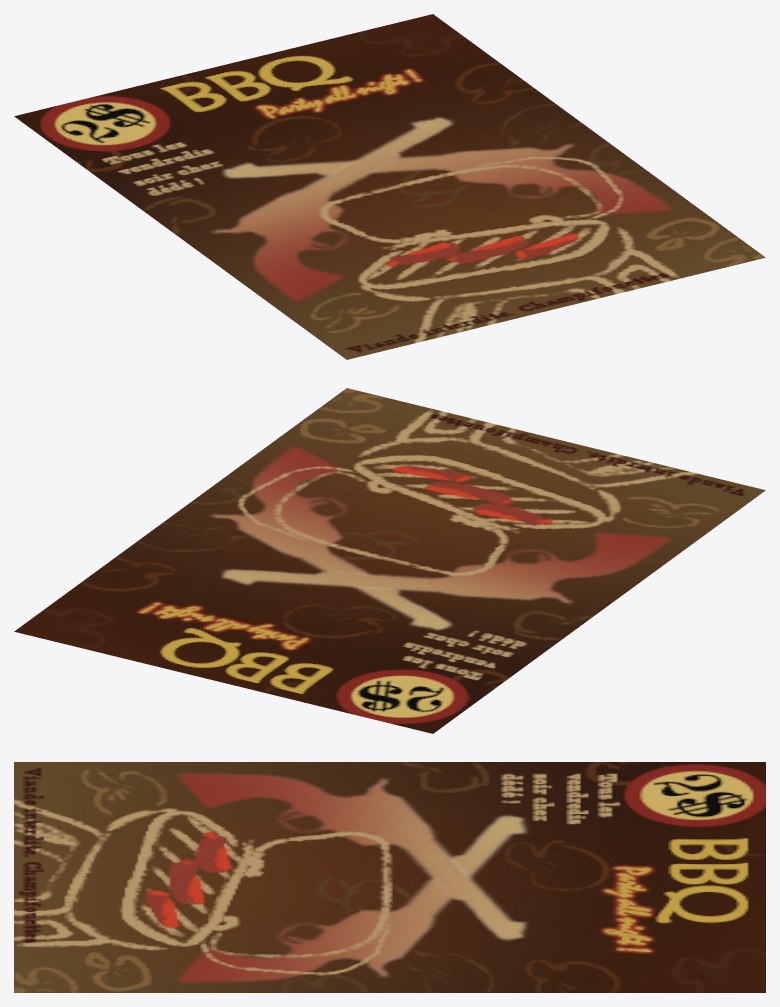
Rendered from Poster01.fbx.
3 renders of one model, top to bottom at view 1: azimuth 30°, elevation 25°; view 2: azimuth 150°, elevation 25°; view 3: azimuth 270°, elevation 25°, orthographic. The views are drawn at different scales.
Visible parts, largest first — view 1: Poster01; view 2: Poster01; view 3: Poster01.
Part boxes in pixels (box(x1,y1,x2,y2)): Poster01: box(14, 14, 765, 359); Poster01: box(14, 388, 765, 733); Poster01: box(14, 762, 765, 992).
Size of the model in its own units: 40.52 by 0 by 55.75.
1 material, 1 textured.
